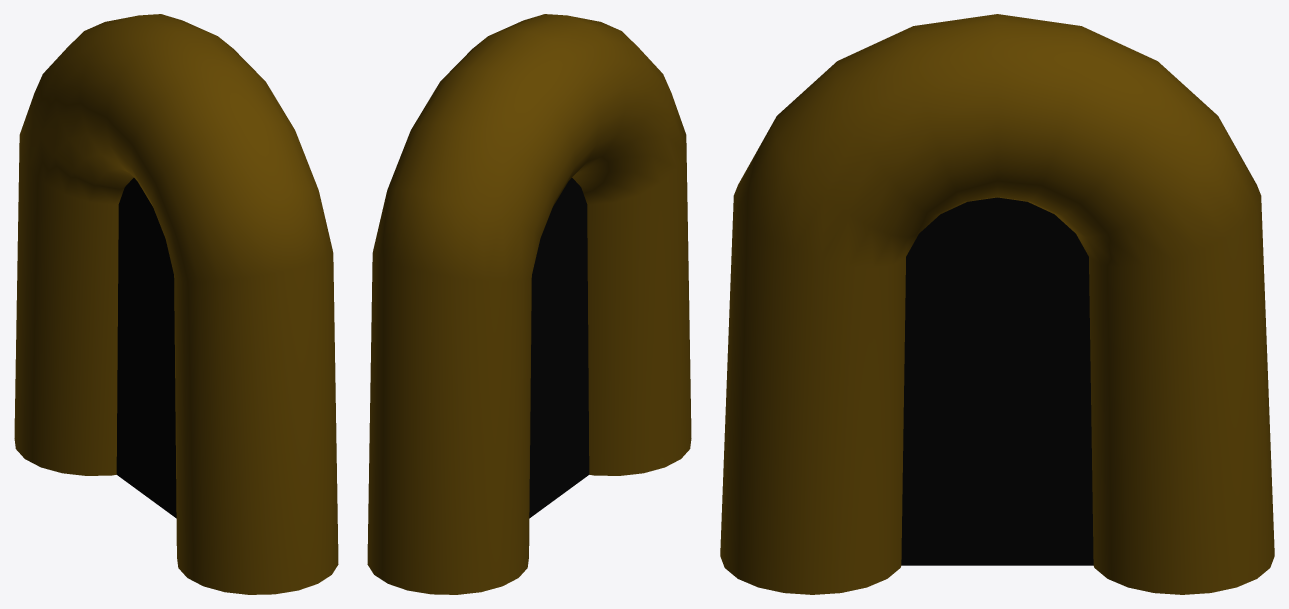
File: Tunnel.fbx
3 renders of one model, left to right at view 1: azimuth 30°, elevation 25°; view 2: azimuth 150°, elevation 25°; view 3: azimuth 270°, elevation 25°, orthographic. The views are drawn at different scales.
Parts seen in each view (by area): view 1: pTorus1, pCube1; view 2: pTorus1, pCube1; view 3: pTorus1, pCube1.
Boxes of the visible parts, x1,y1,x2,y2 form: pTorus1: [14, 14, 338, 594]; pCube1: [116, 178, 176, 518]; pTorus1: [367, 14, 691, 594]; pCube1: [529, 178, 589, 518]; pTorus1: [720, 14, 1274, 594]; pCube1: [901, 197, 1093, 565].
Bounding box in the file's own units: 1 × 3.19 × 3.
